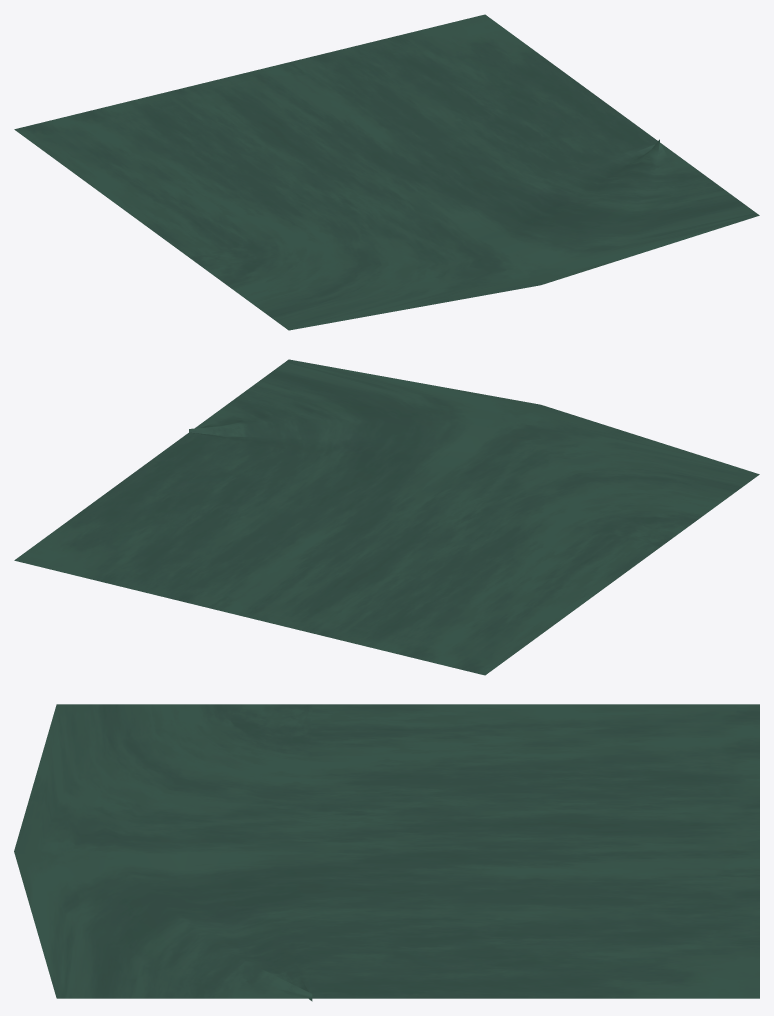
File: Waterfall_Water2.fbx
3 views of the same model, one above another, from view 1: azimuth 30°, elevation 25°; view 2: azimuth 150°, elevation 25°; view 3: azimuth 270°, elevation 25° (orthographic). The views are drawn at different scales.
Visible parts, largest first — view 1: polySurface2; view 2: polySurface2; view 3: polySurface2.
Part boxes in pixels (x1,y1,x2,y2): polySurface2: [14, 14, 759, 330]; polySurface2: [14, 359, 759, 675]; polySurface2: [14, 704, 759, 1001].
Size of the model in its own units: 70 by 0.8442 by 75.
